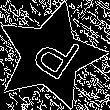P_SW: (19, 24, 81, 88)
